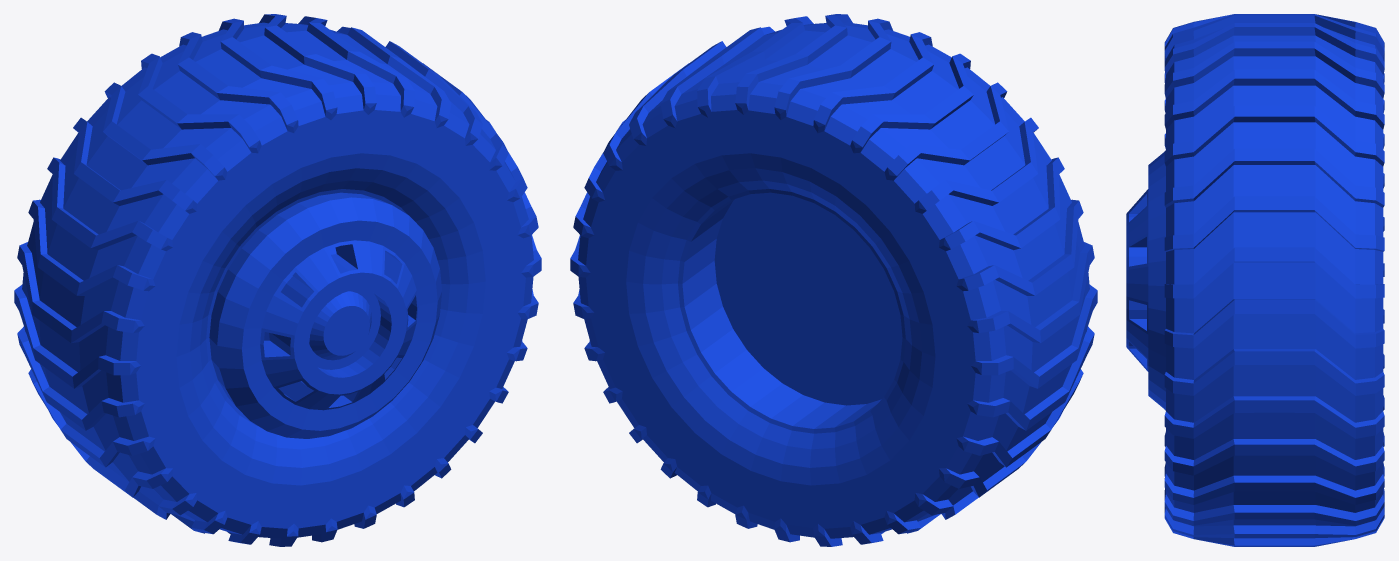
The model's file is PLAYER_UnitLight_Wheel_Left 01_2023-10-28.fbx.
The picture shows the model from 3 angles, left to right: view 1: azimuth 30°, elevation 25°; view 2: azimuth 150°, elevation 25°; view 3: azimuth 270°, elevation 25°; orthographic projection. The views are drawn at different scales.
Parts seen in each view (by area): view 1: LU.006; view 2: LU.006; view 3: LU.006.
Part boxes in pixels (x1,y1,x2,y2): LU.006: (14, 14, 541, 546); LU.006: (570, 14, 1097, 546); LU.006: (1126, 14, 1384, 546).
Bounding box in the file's own units: 0.5913 × 0.5913 × 0.2857.
